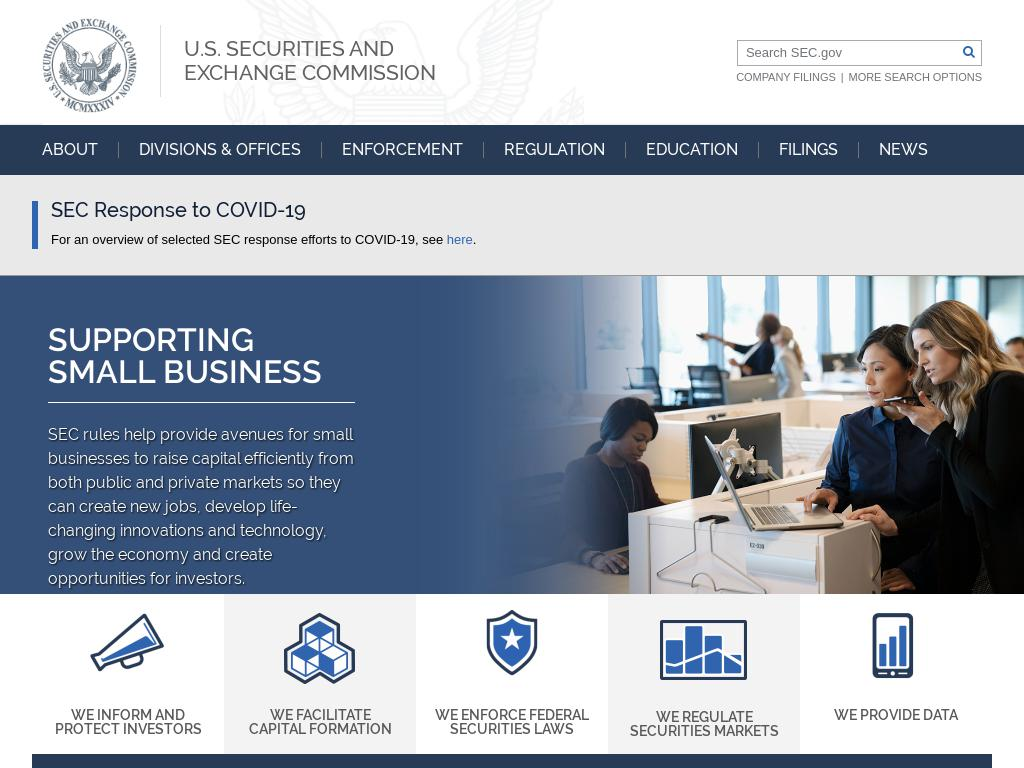button: (608, 593, 800, 754), (32, 593, 224, 752), (224, 593, 416, 752), (416, 593, 608, 752), (800, 593, 992, 738), (161, 25, 469, 97), (42, 18, 137, 113), (119, 142, 322, 158), (322, 142, 484, 158), (484, 142, 626, 158), (626, 142, 759, 158), (759, 142, 859, 158), (859, 142, 948, 158), (42, 142, 119, 158)
field: (737, 39, 982, 66), (956, 39, 982, 66)
image: (0, 275, 1024, 594), (42, 18, 137, 113), (654, 609, 754, 690), (78, 609, 178, 688), (270, 609, 370, 688), (462, 609, 562, 688), (846, 609, 946, 688)
label: (745, 46, 843, 59)
link: (848, 71, 983, 83), (736, 71, 849, 83), (446, 231, 473, 247)
text: (48, 323, 254, 601), (48, 422, 356, 591), (51, 201, 992, 220), (32, 697, 224, 752), (224, 697, 416, 752), (416, 697, 608, 752), (608, 699, 800, 754), (48, 352, 322, 390), (800, 697, 992, 738), (51, 231, 447, 247), (472, 231, 476, 247)
